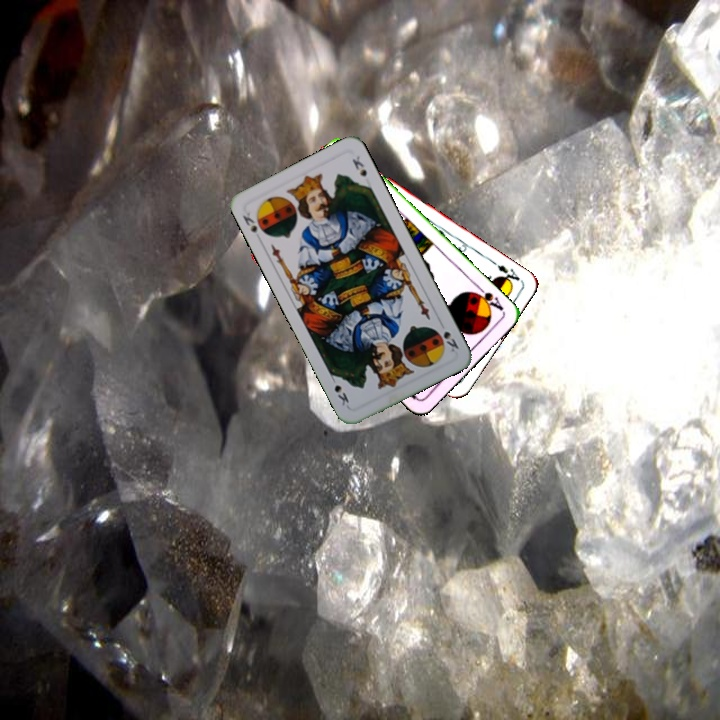EA: (493, 260, 524, 288)
SA: (468, 281, 506, 314)
SK: (435, 317, 461, 355), (239, 205, 260, 236)
